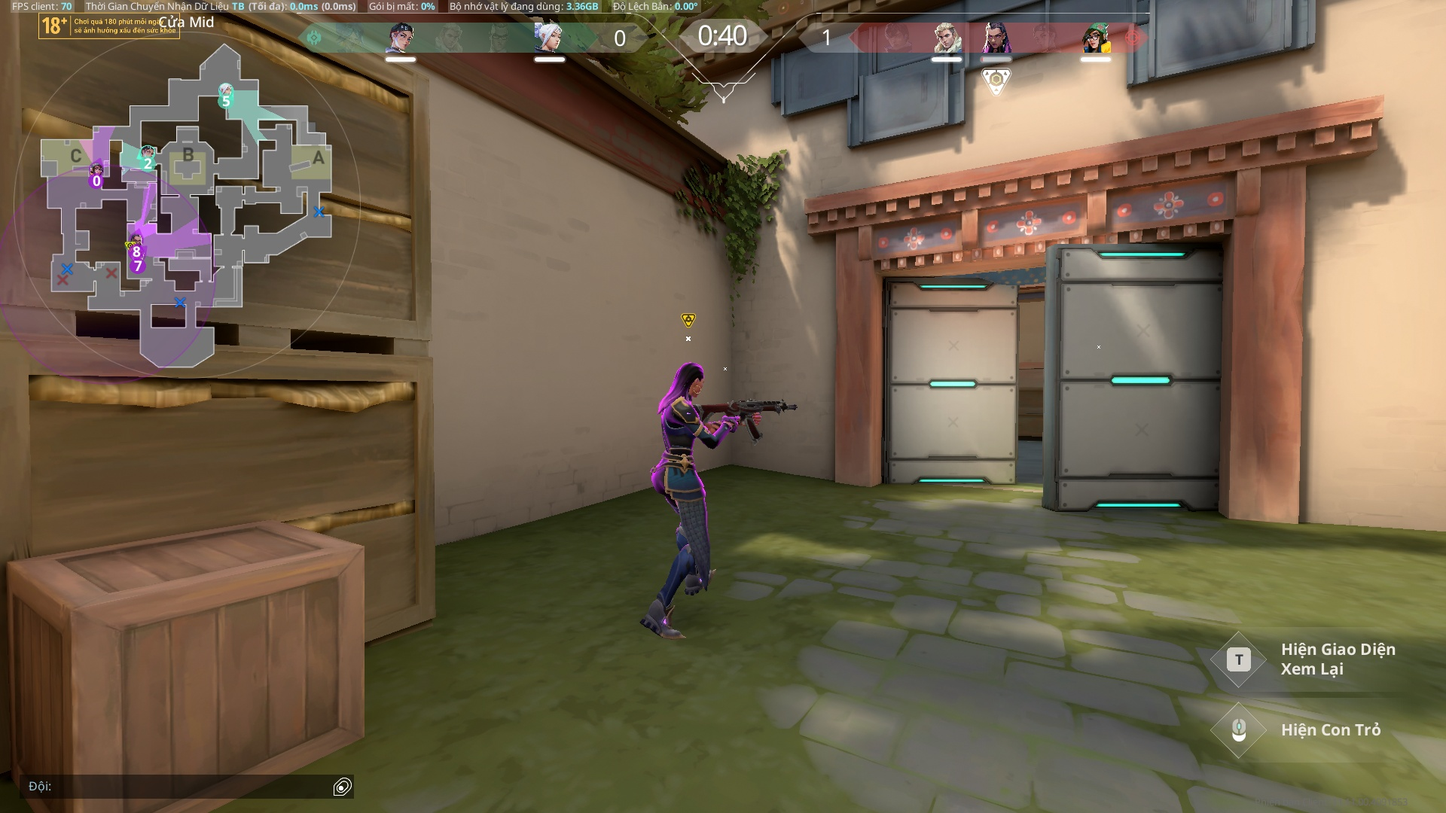body: (656, 394, 706, 455)
head: (674, 361, 704, 397)
